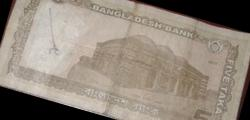5 taka: (15, 1, 238, 118)
